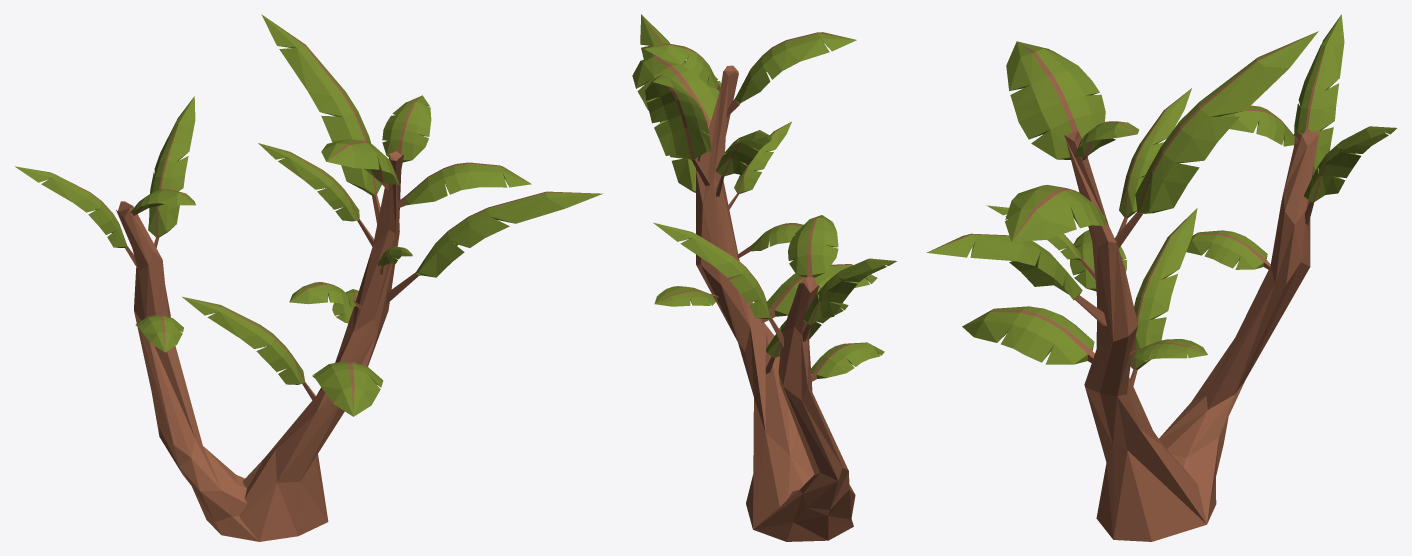
Rendered from Palm Tree_1_1.fbx.
3 renders of one model, left to right at view 1: azimuth 30°, elevation 25°; view 2: azimuth 150°, elevation 25°; view 3: azimuth 270°, elevation 25°, orthographic. The views are drawn at different scales.
Visible parts, largest first — view 1: Palm Tree_1_1; view 2: Palm Tree_1_1; view 3: Palm Tree_1_1.
Boxes of the visible parts, x1,y1,x2,y2 form: Palm Tree_1_1: (15, 14, 602, 541); Palm Tree_1_1: (632, 14, 896, 541); Palm Tree_1_1: (926, 14, 1396, 541).
Size of the model in its own units: 4.18 by 4.24 by 3.48.
